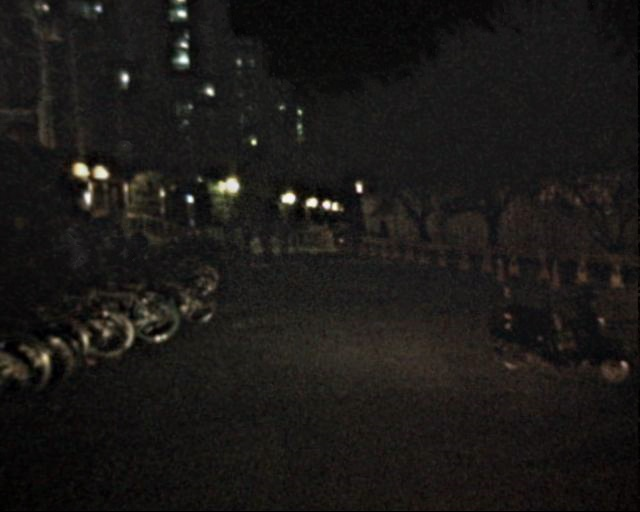person: (62, 223, 85, 279), (113, 219, 132, 266), (132, 225, 150, 270), (271, 213, 289, 256), (255, 218, 272, 260), (377, 220, 392, 257), (241, 214, 254, 246), (225, 218, 237, 247), (290, 220, 305, 243)
